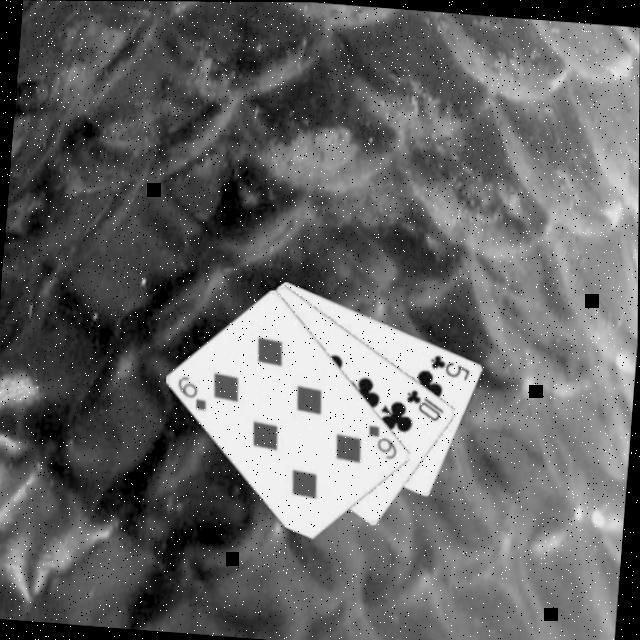10C: (403, 386, 449, 424)
5C: (428, 351, 476, 383)
6D: (364, 420, 404, 462), (174, 372, 212, 414)
